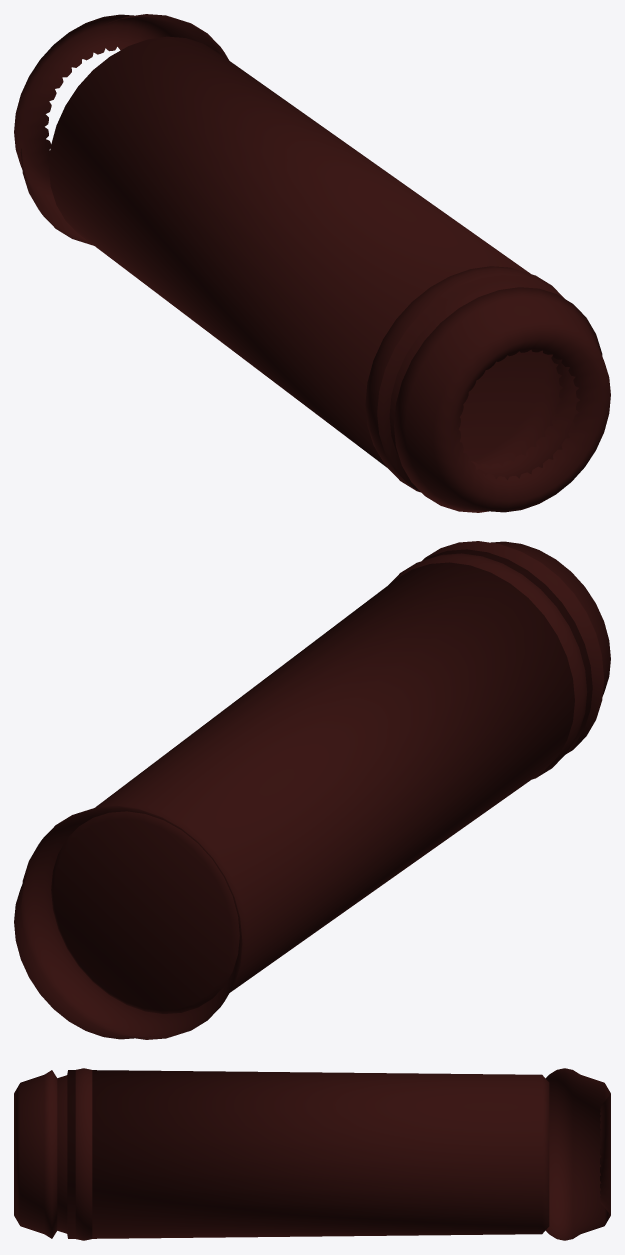
Rendered from dots.glb.
3 views of the same model, one above another, from view 1: azimuth 30°, elevation 25°; view 2: azimuth 150°, elevation 25°; view 3: azimuth 270°, elevation 25° (orthographic). The views are drawn at different scales.
Parts seen in each view (by area): view 1: Sphere; view 2: Sphere; view 3: Sphere.
Part boxes in pixels (x1=…): Sphere: x1=14, y1=14, x2=610, y2=512; Sphere: x1=14, y1=541, x2=610, y2=1039; Sphere: x1=14, y1=1068, x2=610, y2=1240.
Size of the model in its own units: 0.0845 by 0.0845 by 0.2921.
